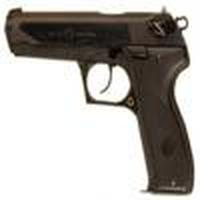gun: (5, 9, 196, 193)
